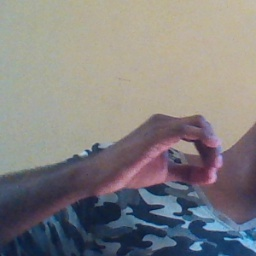O: (114, 107, 227, 195)
